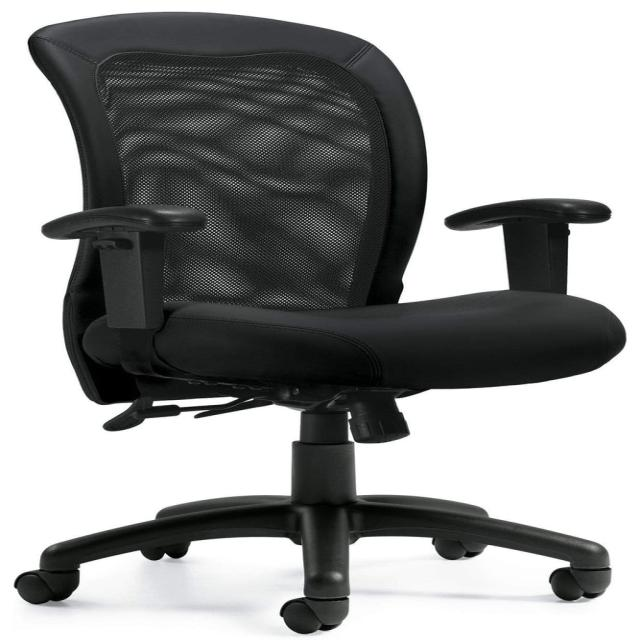chair: (12, 11, 626, 634)
